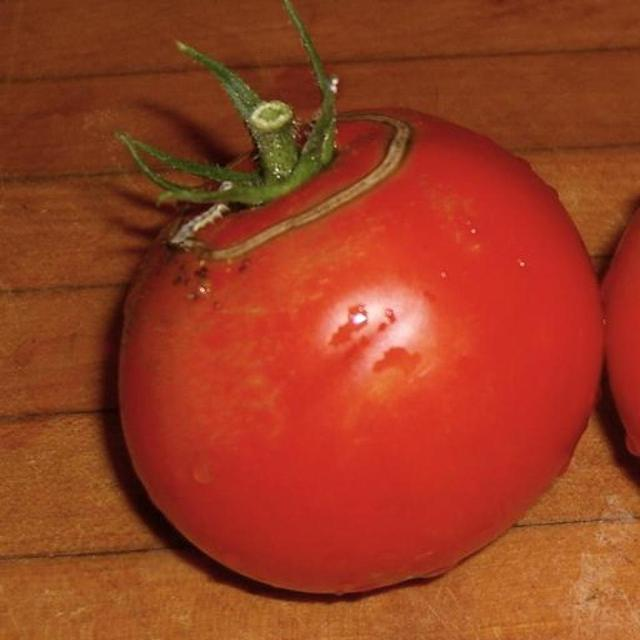Cracking Fruit: (131, 72, 284, 181)
